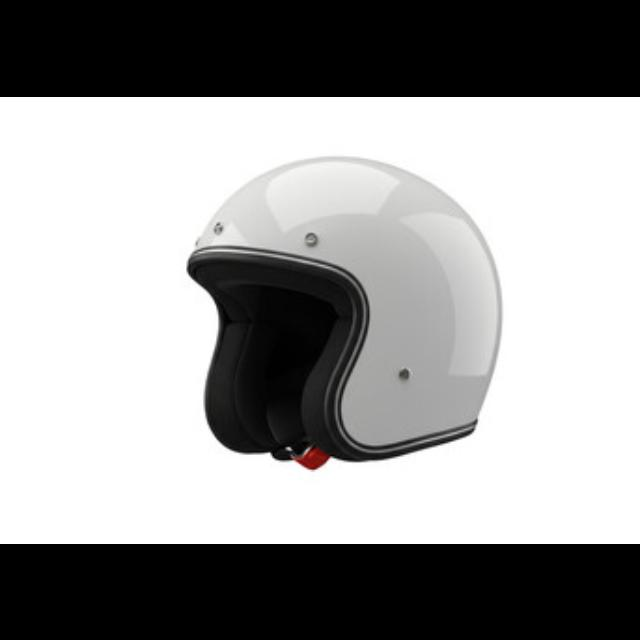motorcycle-helmets: (188, 156, 500, 460)
